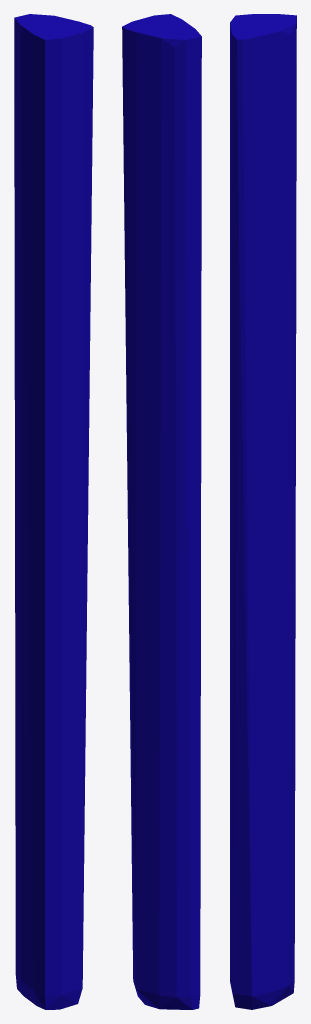
The model's file is right_lf_metacarpal_part_5.obj.
3 views of the same model, side by side, from view 1: azimuth 30°, elevation 25°; view 2: azimuth 210°, elevation 25°; view 3: azimuth 270°, elevation 25° (orthographic).
Bounding box in the file's own units: 0.8438 × 14.99 × 0.9235.
